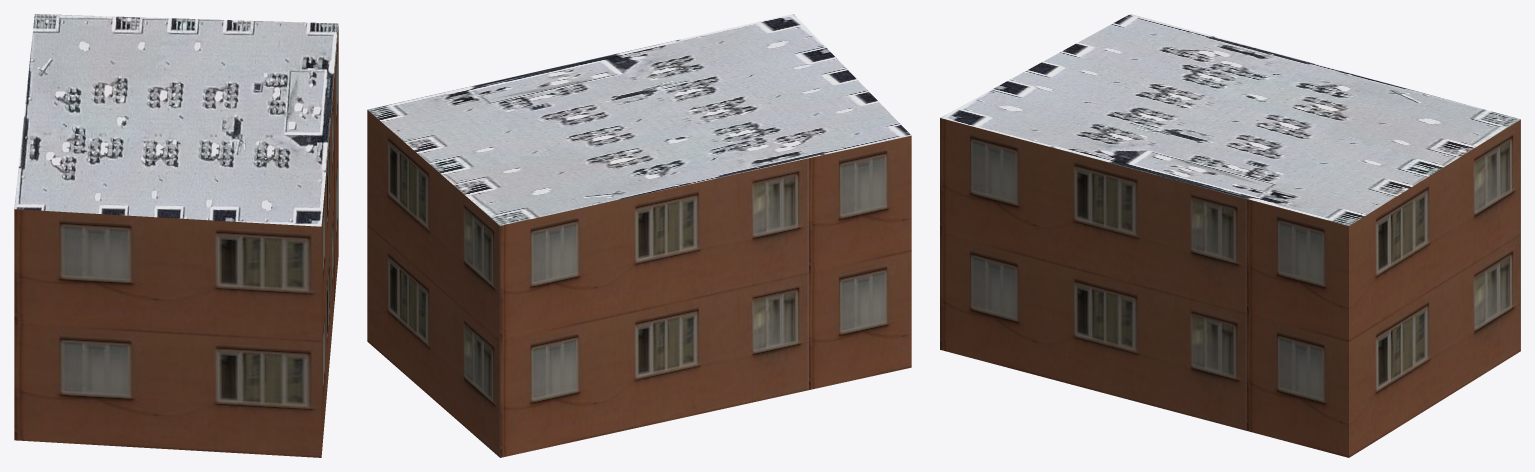
Rendered from ResTex__4976.fbx.
3 renders of one model, left to right at view 1: azimuth 30°, elevation 25°; view 2: azimuth 150°, elevation 25°; view 3: azimuth 270°, elevation 25°, orthographic.
Visible parts, largest first — view 1: CityEngineMaterial_20_m, CityEngineMaterial_4_m; view 2: CityEngineMaterial_20_m, CityEngineMaterial_4_m; view 3: CityEngineMaterial_20_m, CityEngineMaterial_4_m.
Boxes of the visible parts, x1,y1,x2,y2 form: CityEngineMaterial_20_m: (14,26,338,457); CityEngineMaterial_4_m: (14,14,338,226); CityEngineMaterial_20_m: (367,110,911,457); CityEngineMaterial_4_m: (368,14,911,225); CityEngineMaterial_20_m: (940,118,1520,457); CityEngineMaterial_4_m: (940,14,1520,225).
Bounding box in the file's own units: 11.77 × 6 × 13.63.
2 materials, 2 textured.
